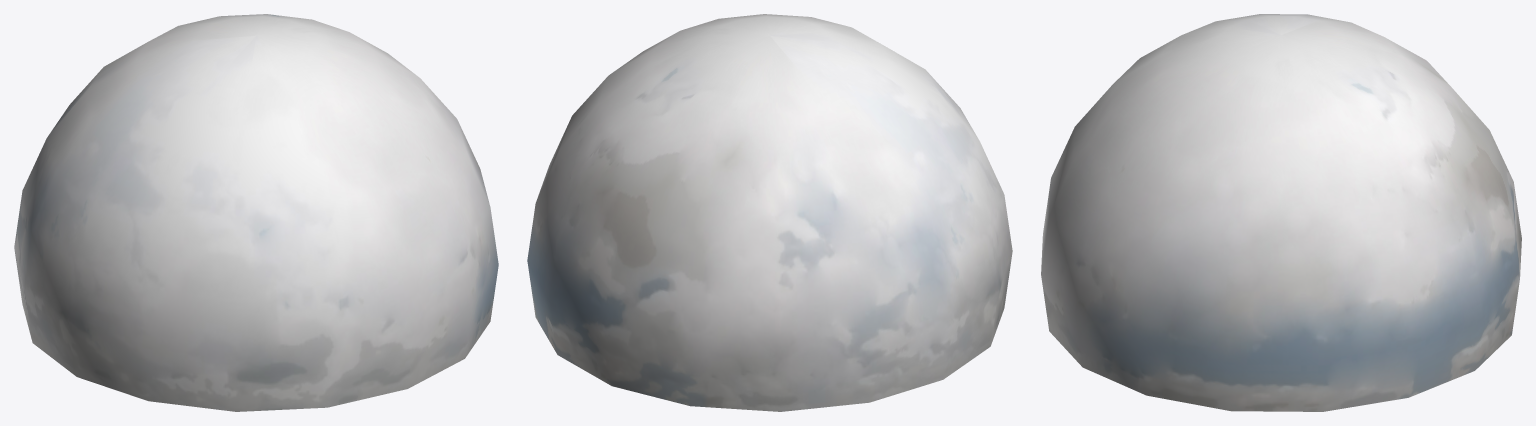
File: sky.obj
3 renders of one model, left to right at view 1: azimuth 30°, elevation 25°; view 2: azimuth 150°, elevation 25°; view 3: azimuth 270°, elevation 25°, orthographic.
Visible parts, largest first — view 1: Sky2_メッシュ; view 2: Sky2_メッシュ; view 3: Sky2_メッシュ.
Part boxes in pixels (x1,y1,x2,y2): Sky2_メッシュ: (14, 14, 498, 411); Sky2_メッシュ: (527, 14, 1012, 411); Sky2_メッシュ: (1041, 14, 1521, 411).
Bounding box in the file's own units: 10192 × 6516 × 10192.
Materials: 1 (1 with a texture image).
